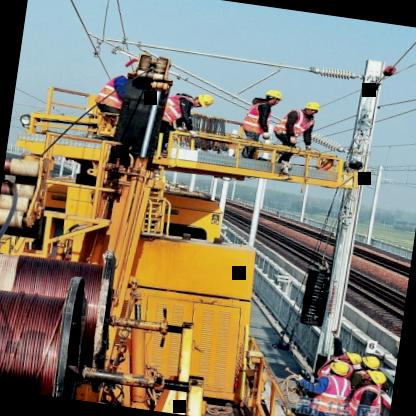helmet: (185, 88, 217, 112), (358, 366, 390, 388), (323, 359, 350, 381), (260, 84, 284, 108), (359, 353, 382, 372), (299, 98, 323, 115), (336, 350, 362, 364)
